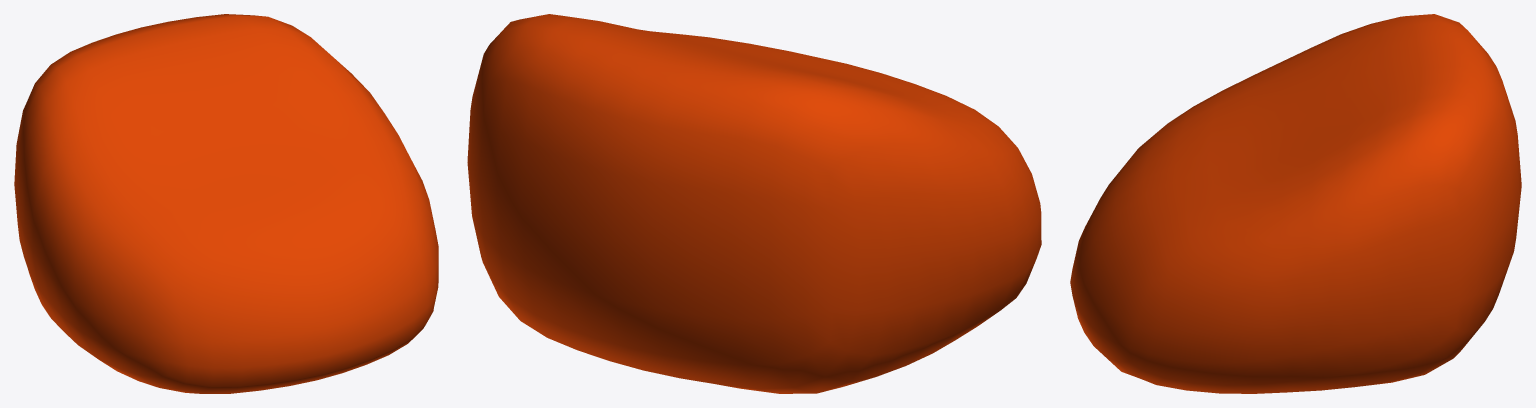
Rendered from Chair_4V.fbx.
The picture shows the model from 3 angles, left to right: view 1: azimuth 30°, elevation 25°; view 2: azimuth 150°, elevation 25°; view 3: azimuth 270°, elevation 25°; orthographic projection. The views are drawn at different scales.
Visible parts, largest first — view 1: Chair_4V; view 2: Chair_4V; view 3: Chair_4V.
Part boxes in pixels (x1=…): Chair_4V: x1=14, y1=14, x2=438, y2=393; Chair_4V: x1=467, y1=14, x2=1041, y2=393; Chair_4V: x1=1070, y1=14, x2=1521, y2=393.
Bounding box in the file's own units: 0.6901 × 0.4379 × 0.6776.
